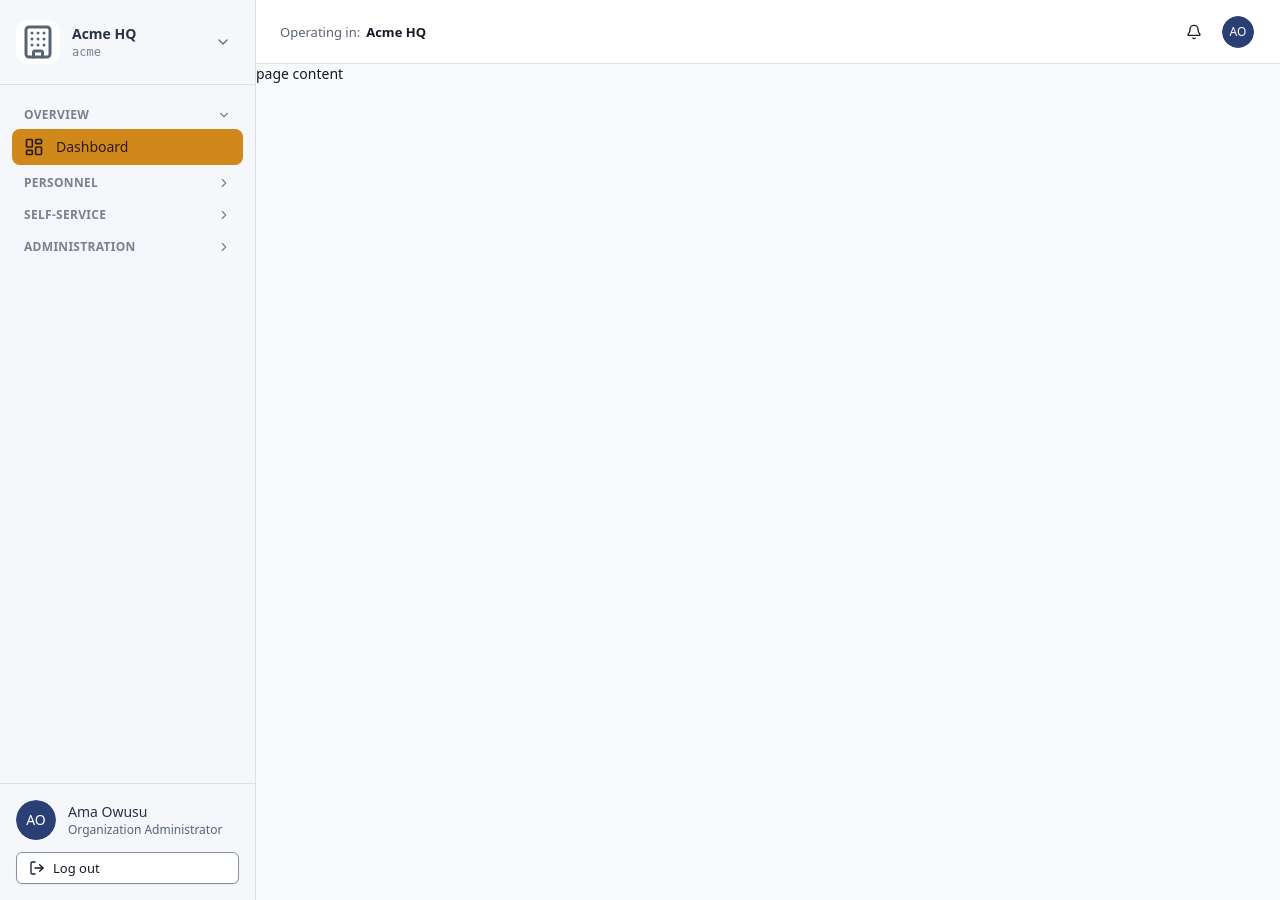
AppShell organisation switcher › does not re-switch when selecting the already-active organisation
What coordinates should you click on to do the following:
click the button with test id "button-org-selector"
I would click on:
 (124, 42)
Its box is [12,16,235,68].
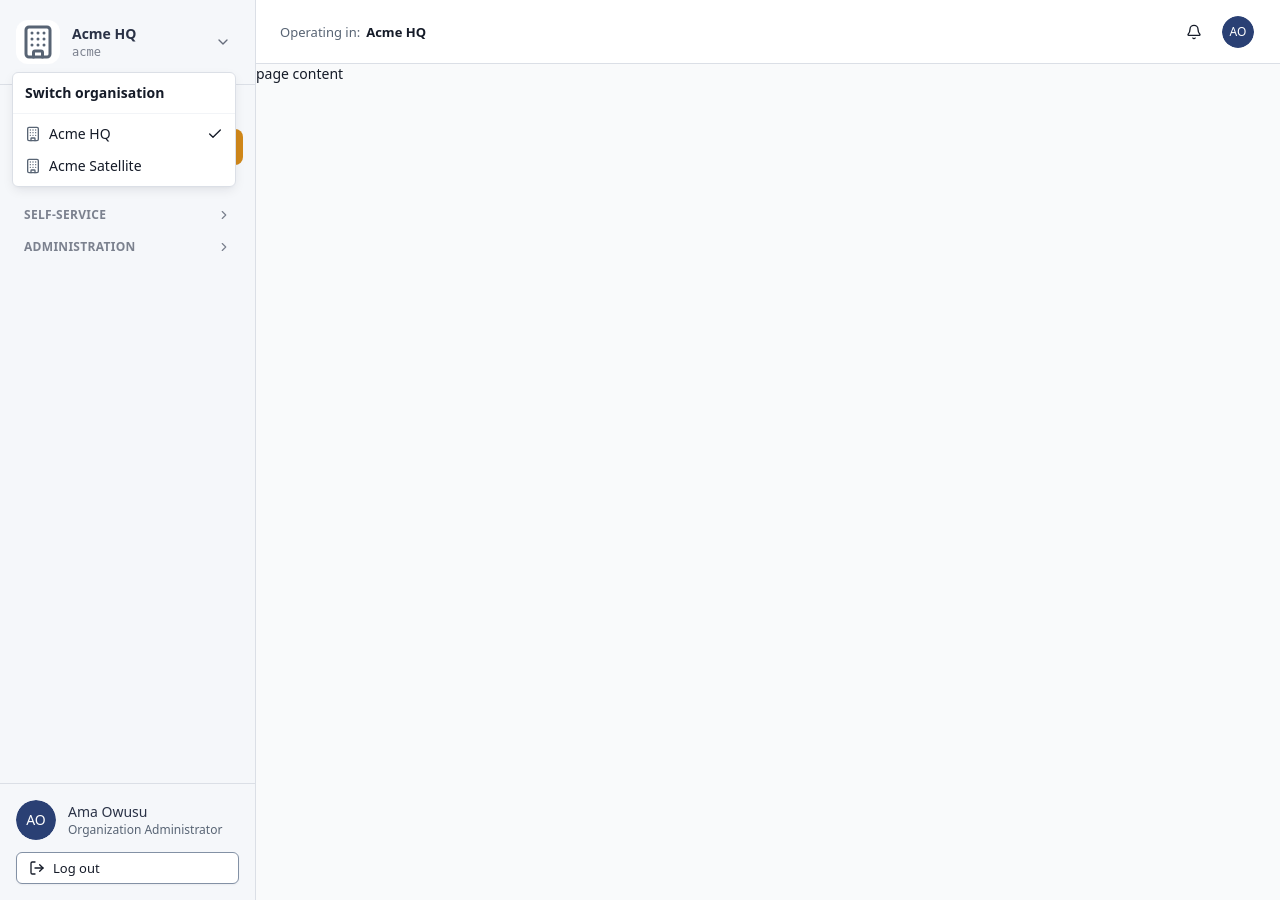
What coordinates should you click on to do the following:
click the menu item with test id "option-org-10"
I would click on:
 (80, 134)
Its box is [25,124,223,143].
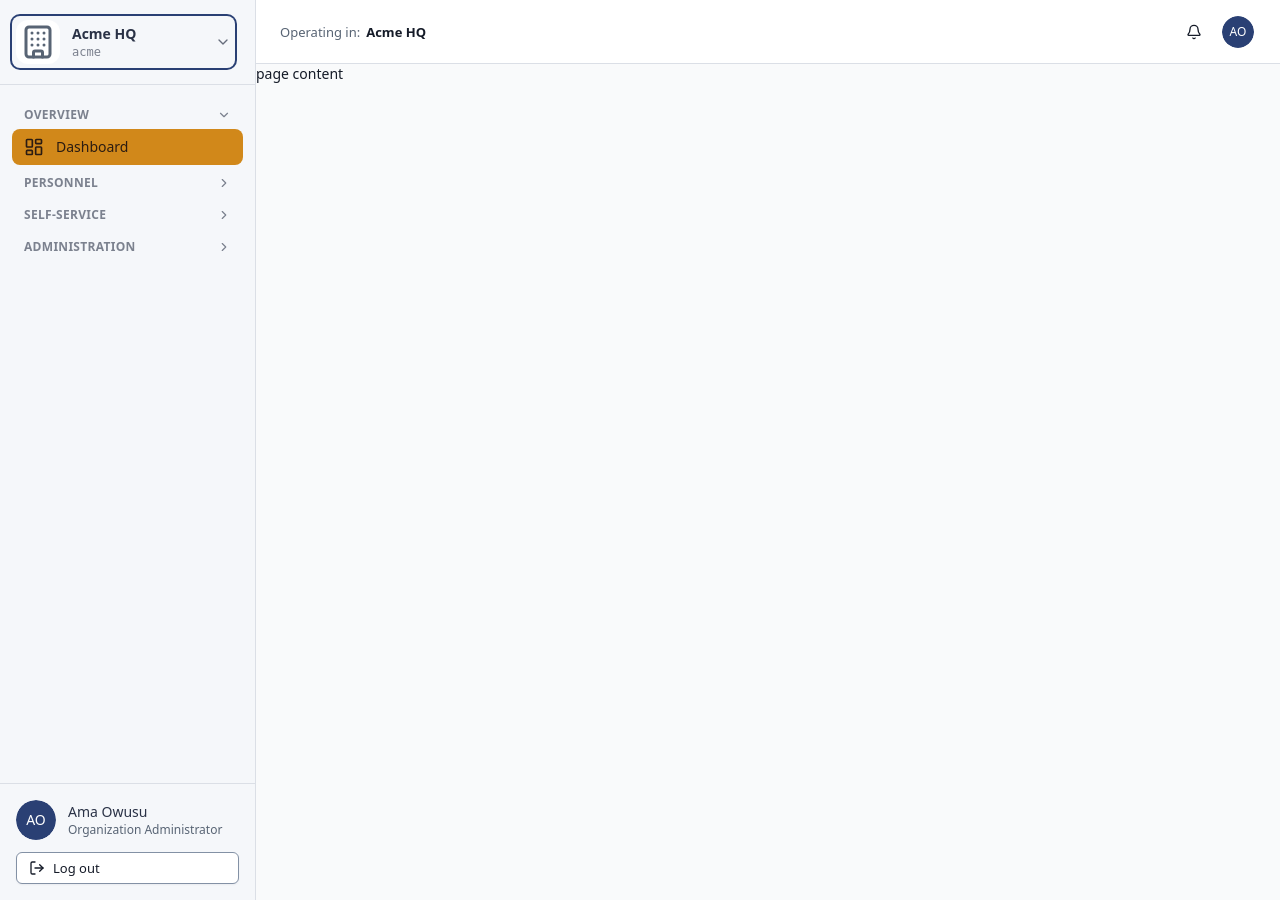
expect the menu item with test id "option-org-10" is gone: met
